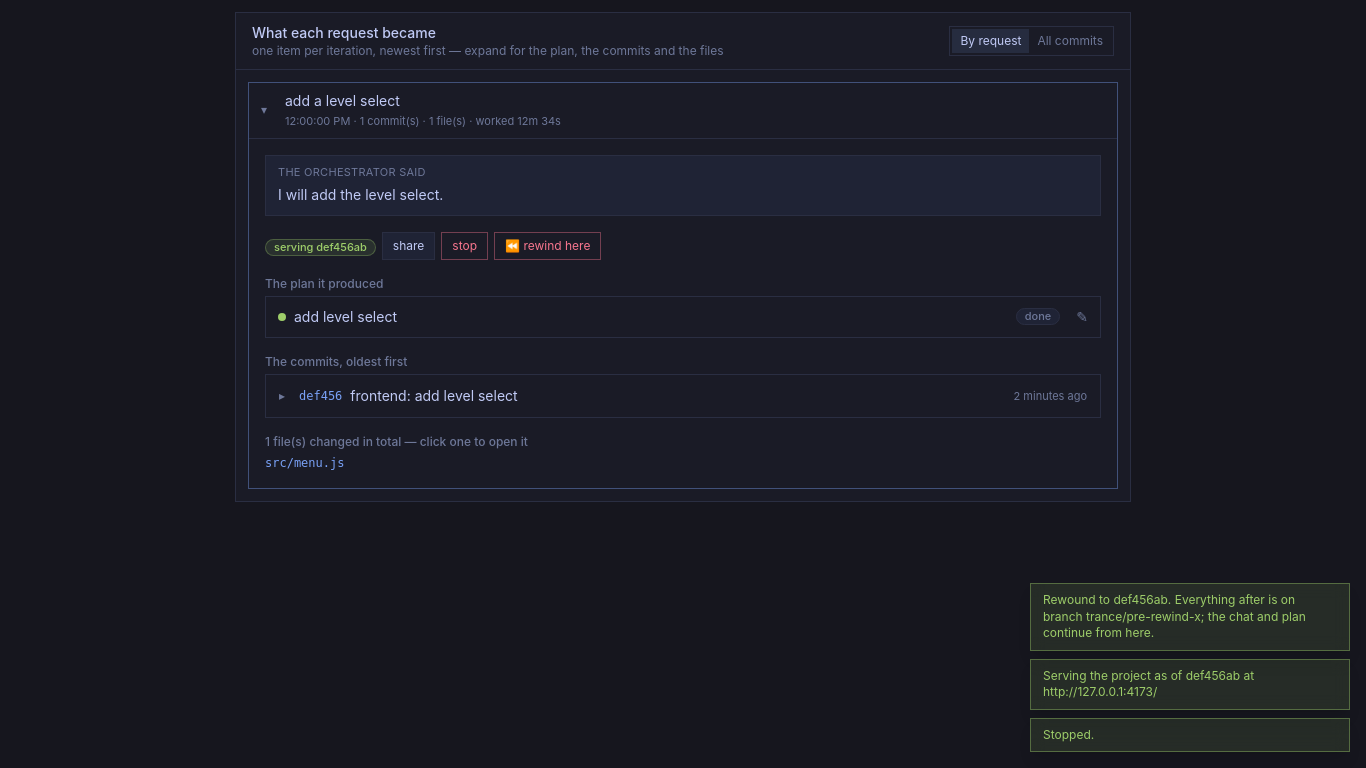
from a reply to its commits › share still answers when the clipboard API does not exist
Click the button "share": (409, 246) [382,232,435,260]
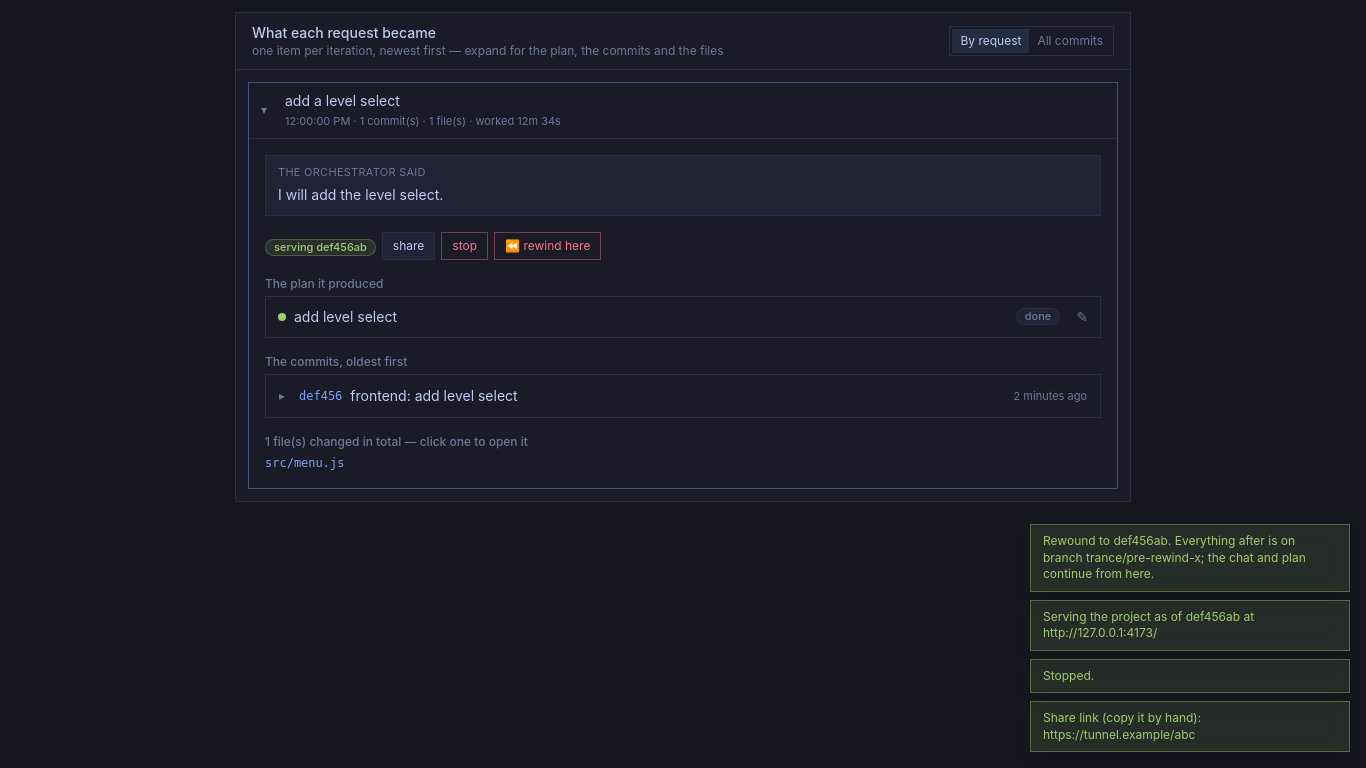
Now the text "Share link (copy it by hand): https://tunnel.example/abc" is shown, box [1030,701,1350,752]
